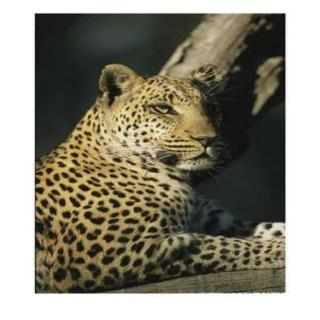Leopard: (39, 43, 242, 271)
